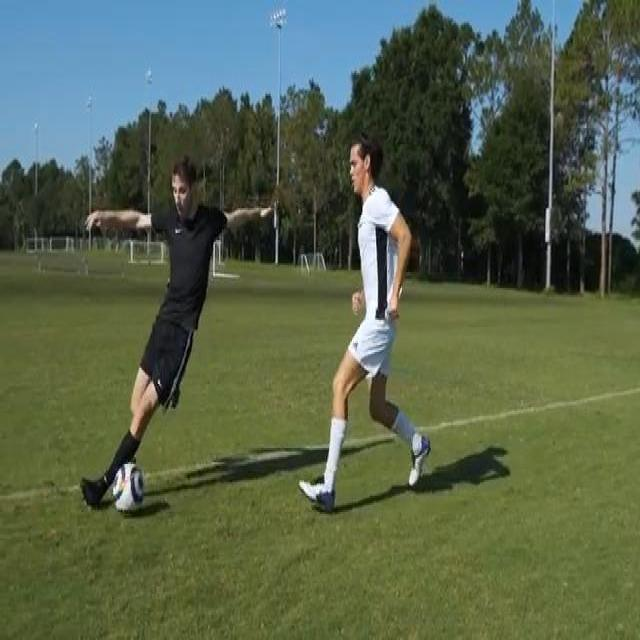Soccer Ball: (114, 462, 144, 521)
